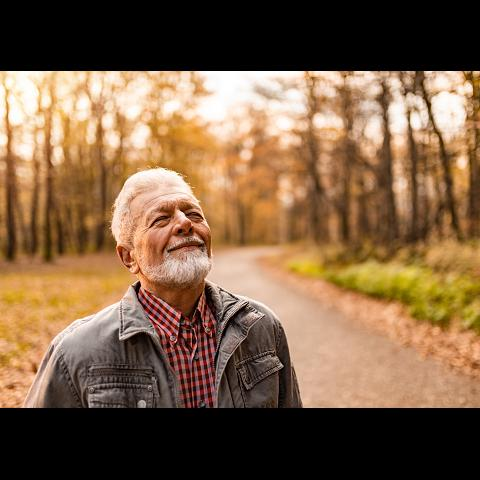closed: (137, 202, 210, 232)
